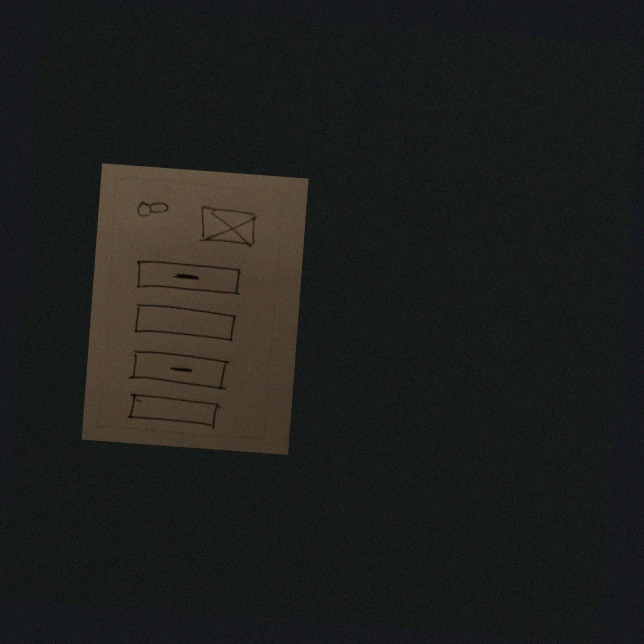button: (130, 254, 246, 301), (126, 347, 232, 393)
image: (195, 201, 261, 250)
switch: (133, 195, 173, 223)
text_input: (128, 299, 240, 345), (125, 390, 223, 432)
